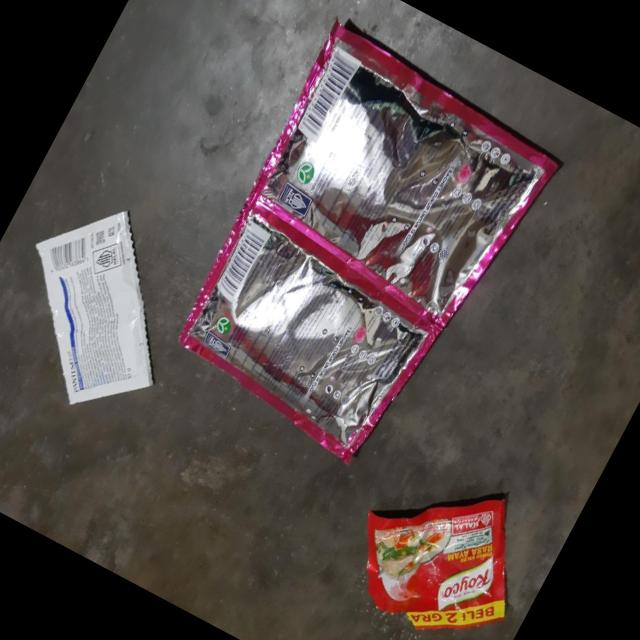KemasanPlastik: (153, 19, 572, 488), (0, 180, 219, 442), (326, 445, 553, 640)
